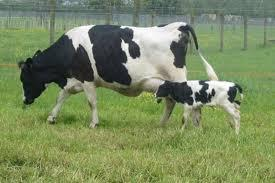cow: (20, 24, 191, 128), (155, 81, 241, 136)
